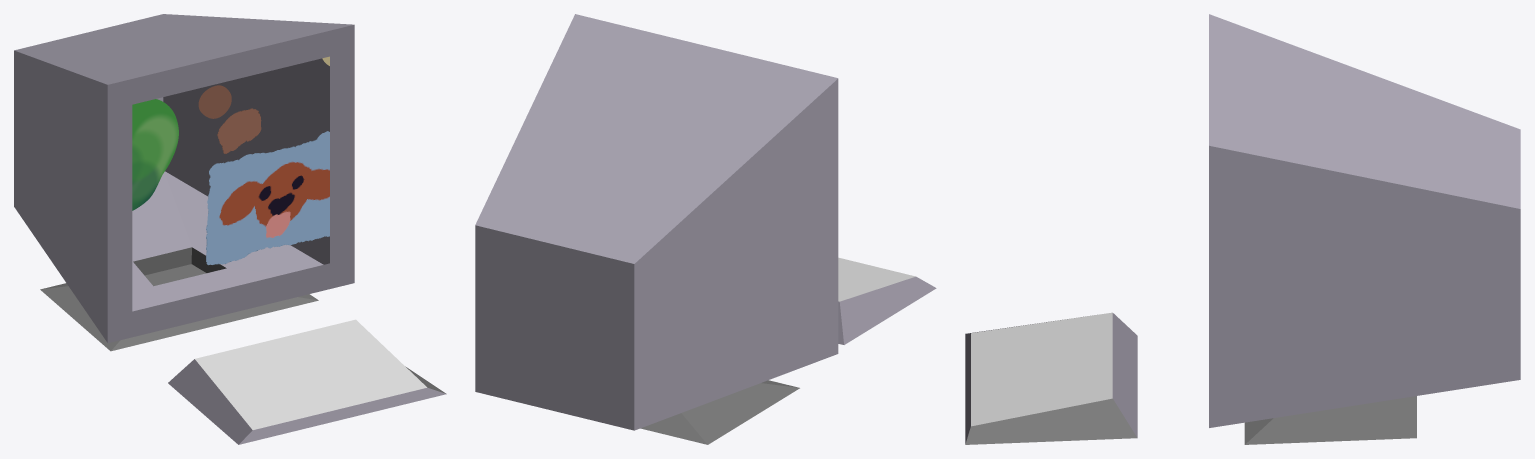
The model's file is computer.dae.
The picture shows the model from 3 angles, left to right: view 1: azimuth 30°, elevation 25°; view 2: azimuth 150°, elevation 25°; view 3: azimuth 270°, elevation 25°; orthographic projection. The views are drawn at different scales.
Parts seen in each view (by area): view 1: Cube; view 2: Cube; view 3: Cube.
Boxes of the visible parts, x1=… form: Cube: x1=14, y1=14, x2=446, y2=444; Cube: x1=475, y1=14, x2=936, y2=444; Cube: x1=965, y1=14, x2=1520, y2=444.
Bounding box in the file's own units: 1.23 × 2.2 × 1.35.
1 material, 1 textured.
